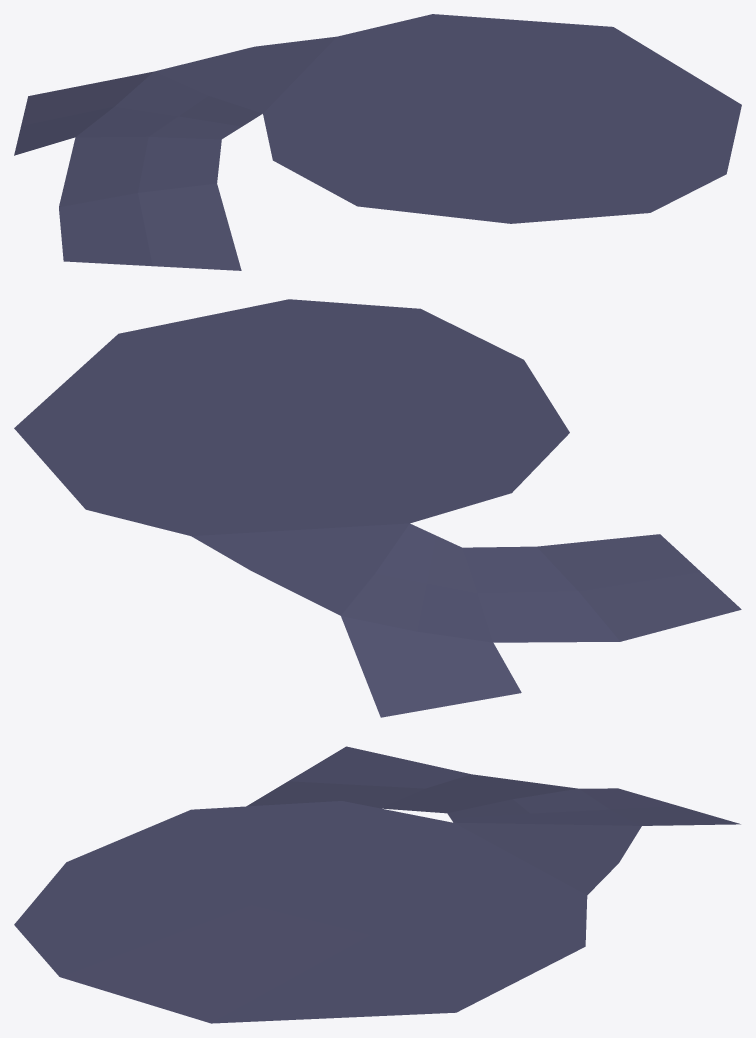
The model's file is Ground_WyvernUpper.fbx.
3 views of the same model, one above another, from view 1: azimuth 30°, elevation 25°; view 2: azimuth 150°, elevation 25°; view 3: azimuth 270°, elevation 25° (orthographic). The views are drawn at different scales.
Visible parts, largest first — view 1: Plane.007, Plane.001; view 2: Plane.007, Plane.001; view 3: Plane.007, Plane.001.
Part boxes in pixels (x1=…): Plane.007: x1=263, y1=14, x2=741, y2=223; Plane.001: x1=14, y1=36, x2=336, y2=270; Plane.007: x1=14, y1=299, x2=569, y2=536; Plane.001: x1=192, y1=523, x2=741, y2=717; Plane.007: x1=14, y1=801, x2=587, y2=1023; Plane.001: x1=247, y1=746, x2=740, y2=895.
Bounding box in the file's own units: 4638 × 388 × 4281.
